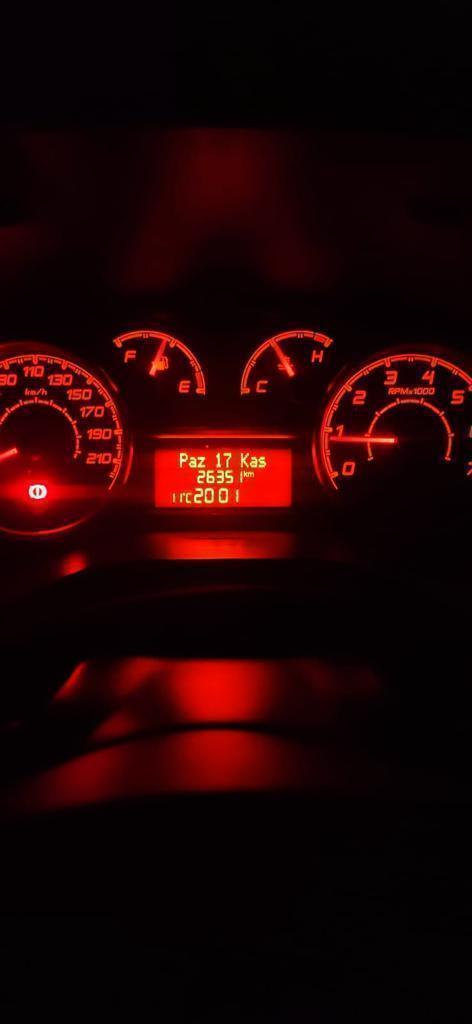0: (217, 487, 229, 503), (204, 487, 214, 503)
1: (215, 451, 221, 468), (234, 488, 240, 503), (239, 470, 243, 483), (171, 492, 175, 503), (179, 492, 182, 503)
2: (193, 487, 203, 503), (196, 469, 205, 483)
3: (216, 469, 224, 483)
5: (224, 469, 233, 483)
6: (206, 469, 214, 483)
7: (223, 452, 231, 468)
X: (240, 452, 249, 468), (179, 452, 188, 467), (197, 456, 206, 468), (257, 456, 266, 467), (249, 455, 257, 467), (188, 456, 196, 467), (185, 491, 192, 503), (247, 471, 254, 477), (243, 469, 247, 477)
odometer: (150, 446, 298, 510)
